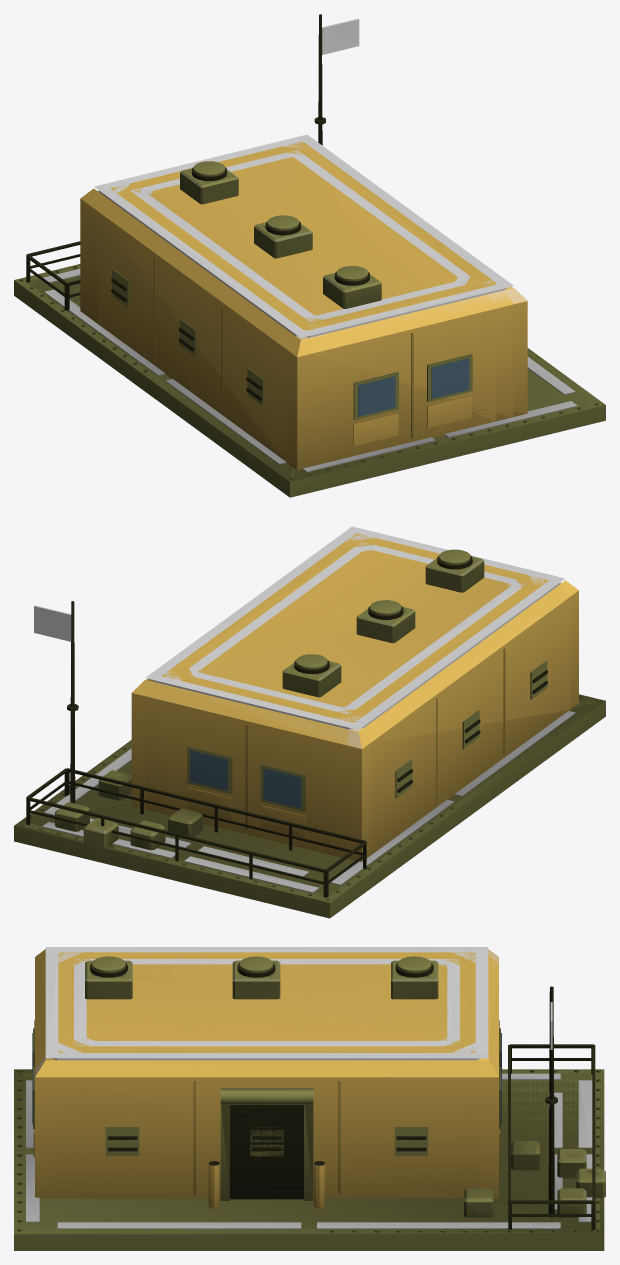
Rendered from meridian_barracks.glb.
The picture shows the model from 3 angles, top to bottom: view 1: azimuth 30°, elevation 25°; view 2: azimuth 150°, elevation 25°; view 3: azimuth 270°, elevation 25°; orthographic projection. The views are drawn at different scales.
Visible parts, largest first — view 1: body (×3); view 2: body (×3); view 3: body (×3).
Boxes of the visible parts, bbox=[...] form: body (×3): bbox=[14, 14, 605, 497]; body (×3): bbox=[14, 526, 605, 918]; body (×3): bbox=[14, 947, 605, 1250].
Size of the model in its own units: 7.5 by 5.15 by 11.23.
